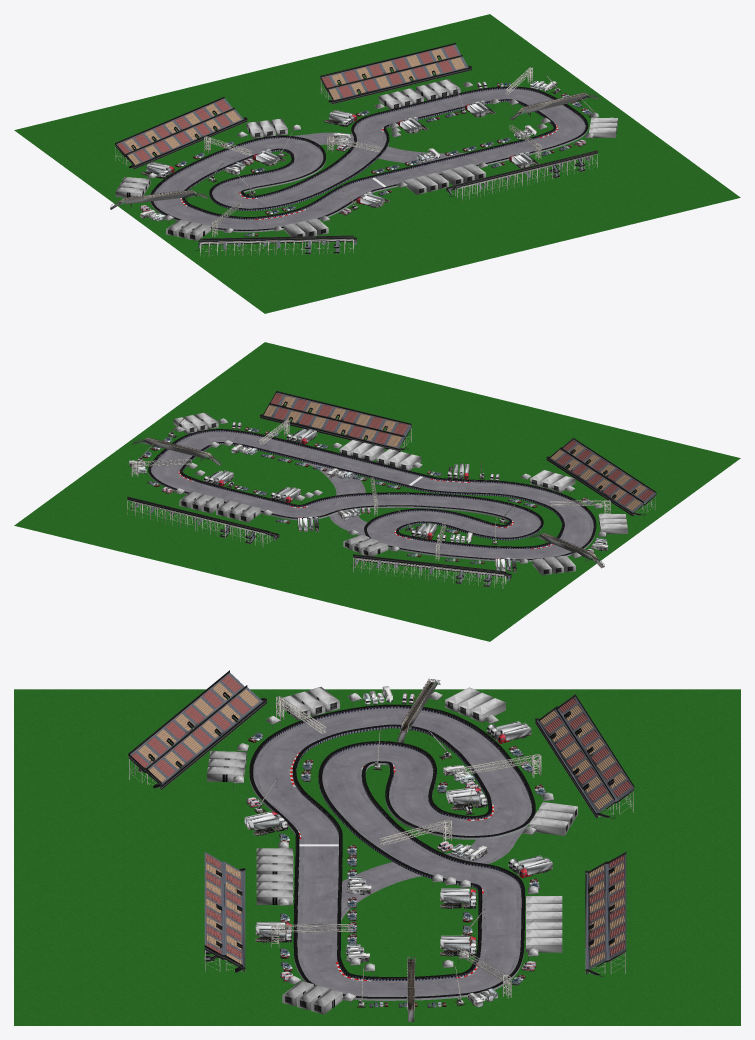
3 views of the same model, one above another, from view 1: azimuth 30°, elevation 25°; view 2: azimuth 150°, elevation 25°; view 3: azimuth 270°, elevation 25° (orthographic). The views are drawn at different scales.
Parts seen in each view (by area): view 1: 1ROAD0.001_grass#asphalt, 1ROAD0.001_asphalt#asphalt, 1ROAD0.001_structures-alpha, 1ROAD0.001_gaztent, 1ROAD0.001_tirebarrier, 1ROAD0.001_Vehicles, 1ROAD0.001_gstands-base3, 1ROAD0.001_structures-base, 1ROAD0.001_rust, 1ROAD0.001_bridge2, 1ROAD0.001_grail; view 2: 1ROAD0.001_grass#asphalt, 1ROAD0.001_asphalt#asphalt, 1ROAD0.001_structures-alpha, 1ROAD0.001_gaztent, 1ROAD0.001_tirebarrier, 1ROAD0.001_Vehicles, 1ROAD0.001_gstands-base3, 1ROAD0.001_structures-base, 1ROAD0.001_rust, 1ROAD0.001_bridge2, 1ROAD0.001_grail; view 3: 1ROAD0.001_grass#asphalt, 1ROAD0.001_asphalt#asphalt, 1ROAD0.001_structures-alpha, 1ROAD0.001_gaztent, 1ROAD0.001_tirebarrier, 1ROAD0.001_Vehicles, 1ROAD0.001_gstands-base3, 1ROAD0.001_rust, 1ROAD0.001_bridge2, 1ROAD0.001_grail, 1ROAD0.001_tractor, 1ROAD0.001_amb.
Boxes of the visible parts, x1=… form: 1ROAD0.001_grass#asphalt: x1=14, y1=14, x2=740, y2=313; 1ROAD0.001_asphalt#asphalt: x1=153, y1=89, x2=585, y2=229; 1ROAD0.001_structures-alpha: x1=115, y1=43, x2=597, y2=253; 1ROAD0.001_gaztent: x1=115, y1=79, x2=617, y2=240; 1ROAD0.001_tirebarrier: x1=150, y1=86, x2=588, y2=230; 1ROAD0.001_Vehicles: x1=140, y1=80, x2=592, y2=236; 1ROAD0.001_gstands-base3: x1=115, y1=44, x2=597, y2=252; 1ROAD0.001_structures-base: x1=115, y1=71, x2=597, y2=256; 1ROAD0.001_rust: x1=204, y1=67, x2=541, y2=237; 1ROAD0.001_bridge2: x1=110, y1=92, x2=599, y2=209; 1ROAD0.001_grail: x1=150, y1=128, x2=588, y2=232; 1ROAD0.001_grass#asphalt: x1=14, y1=342, x2=740, y2=641; 1ROAD0.001_asphalt#asphalt: x1=151, y1=431, x2=593, y2=558; 1ROAD0.001_structures-alpha: x1=127, y1=391, x2=656, y2=586; 1ROAD0.001_gaztent: x1=173, y1=412, x2=627, y2=575; 1ROAD0.001_tirebarrier: x1=148, y1=429, x2=596, y2=560; 1ROAD0.001_Vehicles: x1=129, y1=427, x2=608, y2=572; 1ROAD0.001_gstands-base3: x1=127, y1=392, x2=656, y2=586; 1ROAD0.001_structures-base: x1=127, y1=404, x2=655, y2=588; 1ROAD0.001_rust: x1=131, y1=420, x2=610, y2=561; 1ROAD0.001_bridge2: x1=132, y1=437, x2=604, y2=568; 1ROAD0.001_grail: x1=148, y1=472, x2=596, y2=561; 1ROAD0.001_grass#asphalt: x1=14, y1=689, x2=740, y2=1025; 1ROAD0.001_asphalt#asphalt: x1=253, y1=708, x2=531, y2=996; 1ROAD0.001_structures-alpha: x1=128, y1=670, x2=634, y2=976; 1ROAD0.001_gaztent: x1=207, y1=687, x2=577, y2=1014; 1ROAD0.001_tirebarrier: x1=249, y1=704, x2=535, y2=998; 1ROAD0.001_Vehicles: x1=244, y1=686, x2=552, y2=1008; 1ROAD0.001_gstands-base3: x1=128, y1=673, x2=634, y2=975; 1ROAD0.001_rust: x1=271, y1=696, x2=541, y2=998; 1ROAD0.001_bridge2: x1=397, y1=678, x2=440, y2=1021; 1ROAD0.001_grail: x1=249, y1=763, x2=535, y2=1000; 1ROAD0.001_tractor: x1=254, y1=729, x2=485, y2=1008; 1ROAD0.001_amb: x1=246, y1=693, x2=536, y2=981.
Bounding box in the file's own units: 73.02 × 3.89 × 65.47.
Materials: 15 (15 with a texture image).
